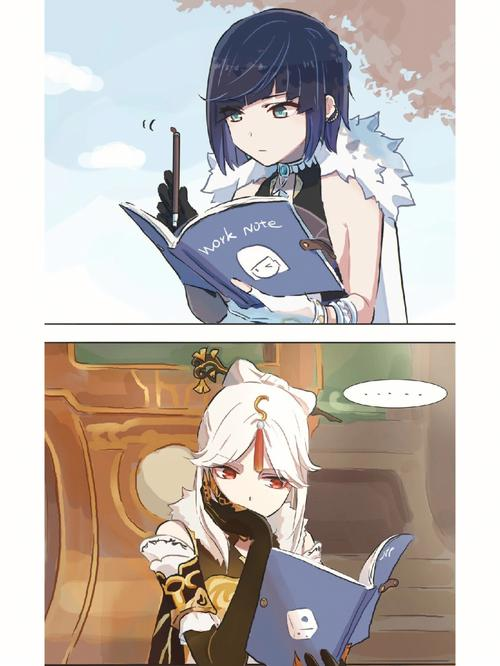夜兰: (159, 11, 388, 326)
